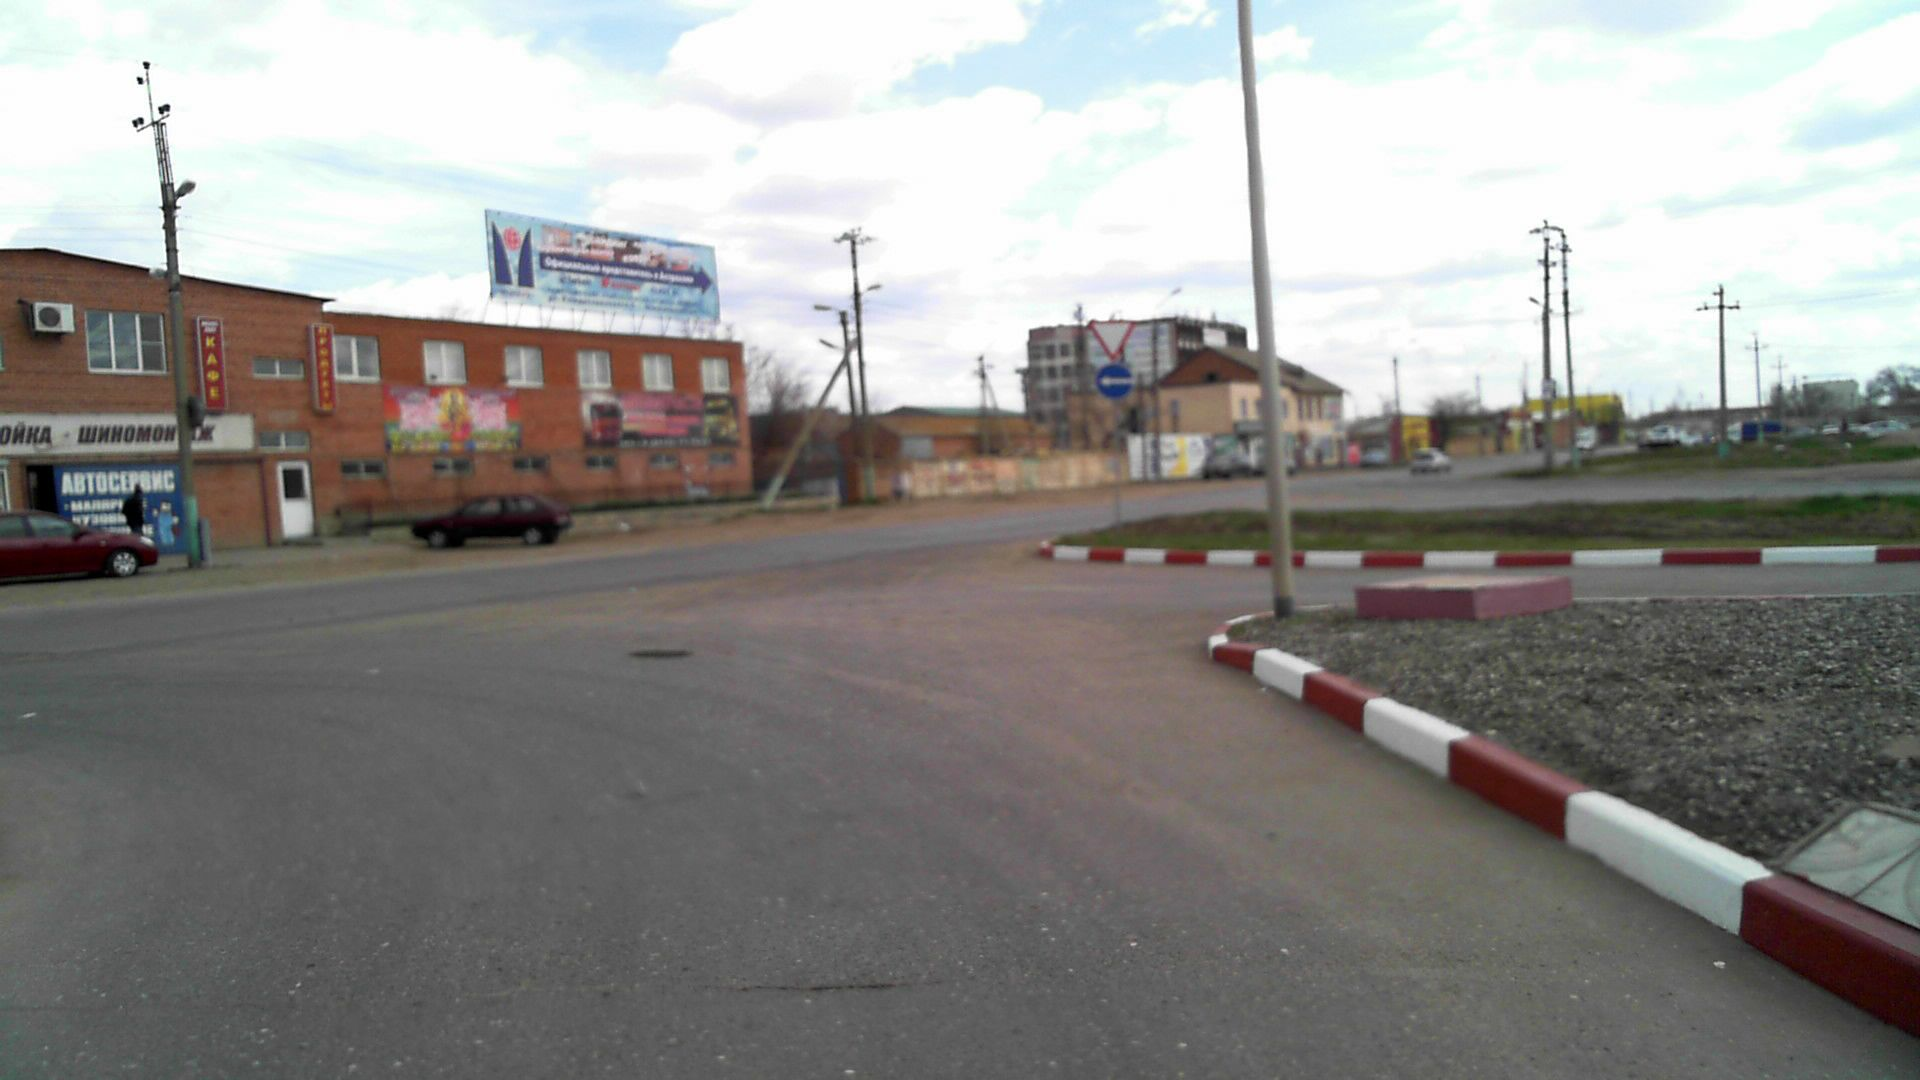Turn Left: (1096, 363, 1134, 400)
